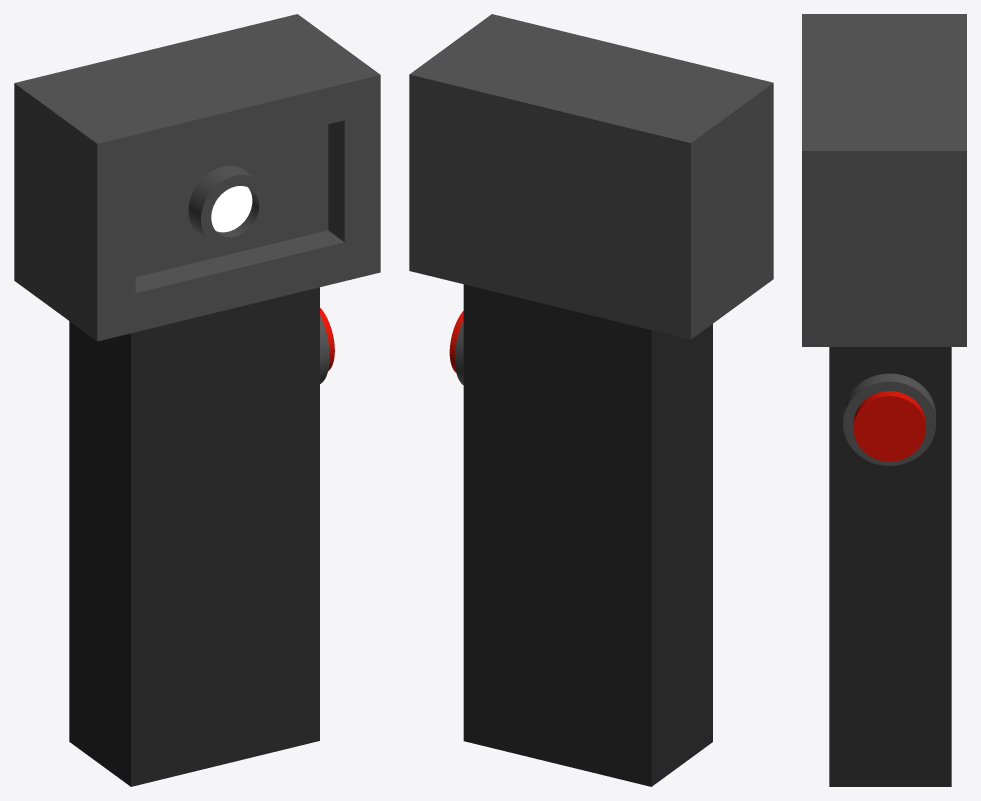
File: tts.gltf
The picture shows the model from 3 angles, left to right: view 1: azimuth 30°, elevation 25°; view 2: azimuth 150°, elevation 25°; view 3: azimuth 270°, elevation 25°; orthographic projection.
Parts seen in each view (by area): view 1: Cube.001, Cube, Cylinder; view 2: Cube.001, Cube, Cylinder; view 3: Cube, Cube.001, Cylinder.
Part boxes in pixels (x1=…): Cube.001: x1=69, y1=287, x2=319, y2=786; Cube: x1=14, y1=14, x2=380, y2=341; Cylinder: x1=320, y1=308, x2=334, y2=383; Cube.001: x1=463, y1=284, x2=712, y2=786; Cube: x1=409, y1=14, x2=773, y2=339; Cylinder: x1=449, y1=311, x2=463, y2=384; Cube: x1=802, y1=14, x2=966, y2=346; Cube.001: x1=829, y1=347, x2=951, y2=786; Cylinder: x1=843, y1=373, x2=935, y2=465.
Bounding box in the file's own units: 3 × 6.73 × 1.52.
